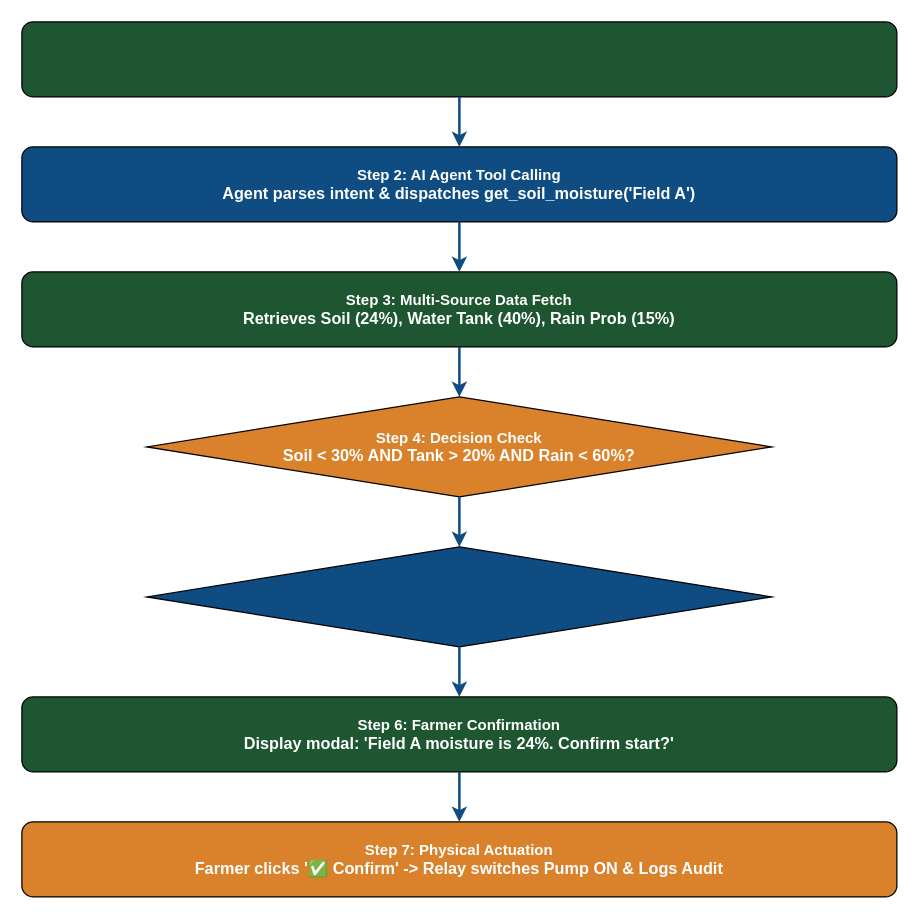
Some shapes in this 919 by 919 pixel diagram are drawn without their labels. Here are the shapes that lost their labels. From the top down, the centre of each, then its label:
At point 459,59: "Step 1: Farmer Command Types 'Irrigate Field A' into Streamlit Chat Console".
At point 459,596: "Step 5: Safety Gate Check Is Water Tank Level > 10%?".
